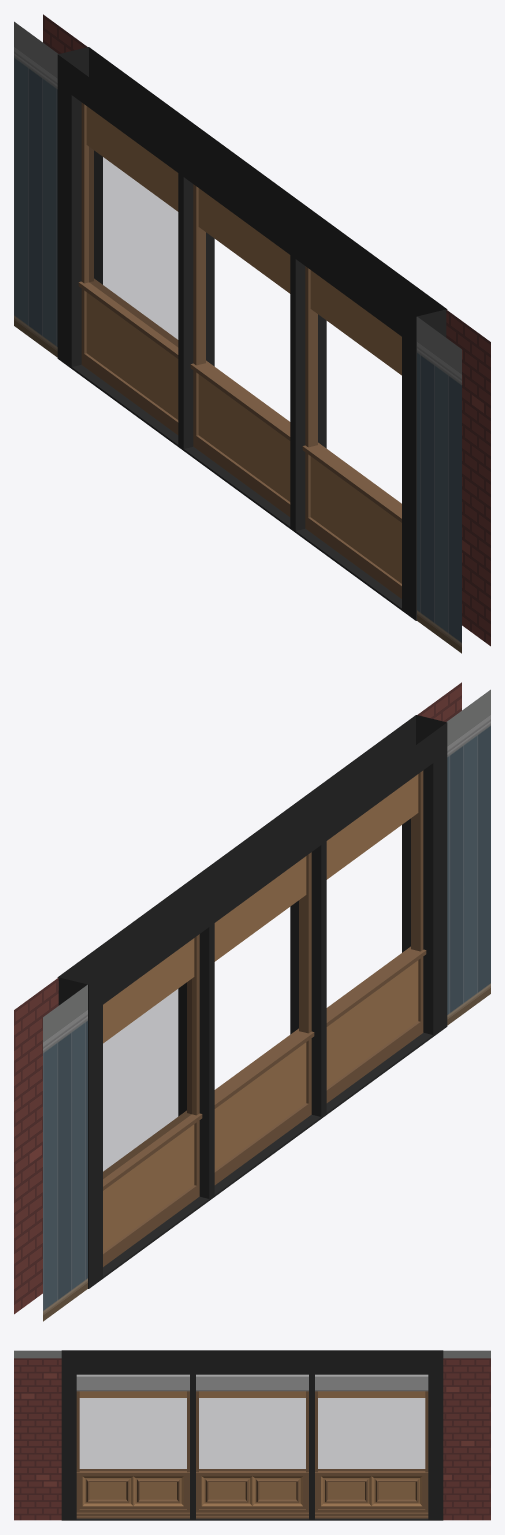
Rendered from SM_shopFront_03b.glb.
3 renders of one model, top to bottom at view 1: azimuth 30°, elevation 25°; view 2: azimuth 150°, elevation 25°; view 3: azimuth 270°, elevation 25°, orthographic. The views are drawn at different scales.
Visible parts, largest first — view 1: SM_shopFront_03b; view 2: SM_shopFront_03b; view 3: SM_shopFront_03b.
Boxes of the visible parts, x1,y1,x2,y2 form: SM_shopFront_03b: [14, 14, 490, 653]; SM_shopFront_03b: [14, 682, 490, 1321]; SM_shopFront_03b: [14, 1350, 490, 1520].
Size of the model in its own units: 0.4 by 3 by 8.
Materials: 4 (3 with a texture image).
